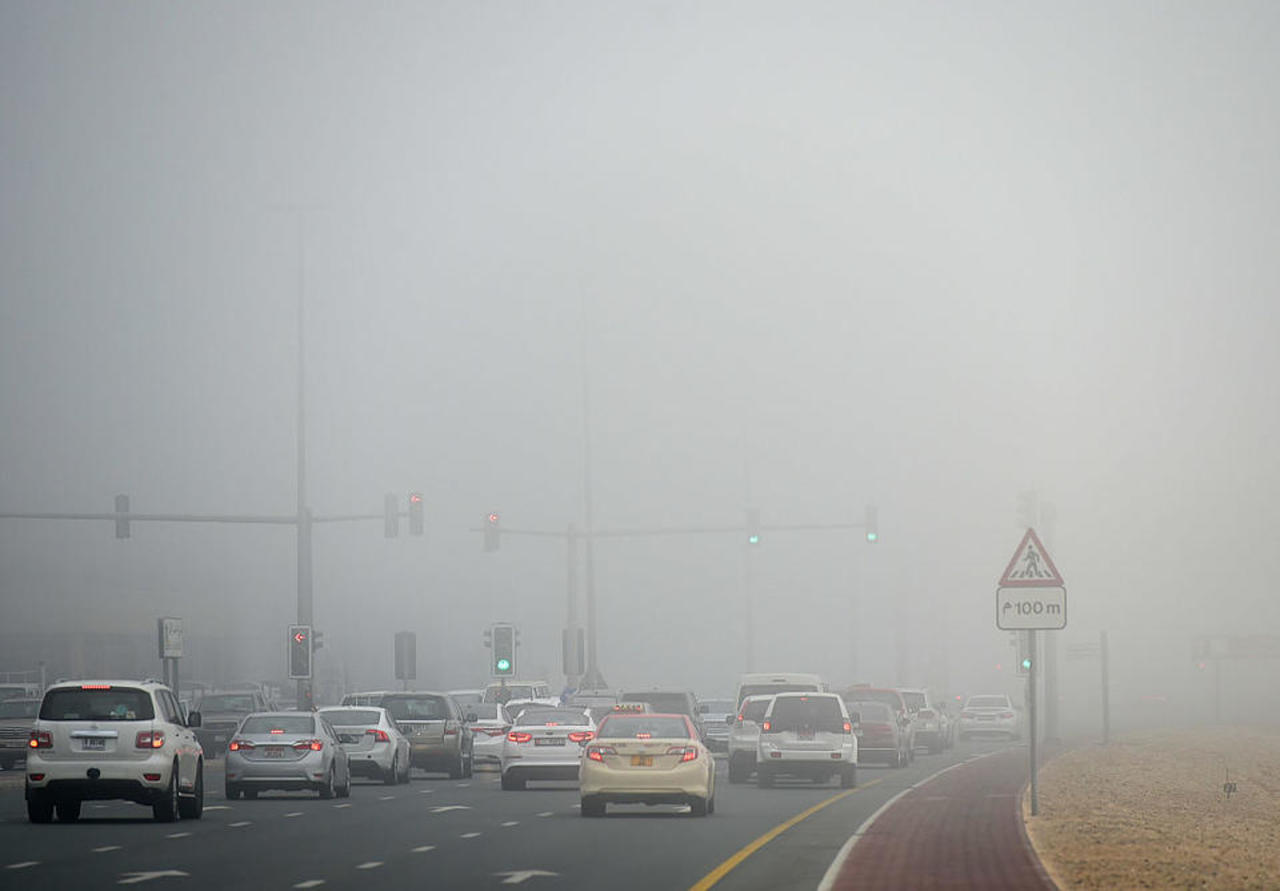car: (23, 675, 208, 823), (573, 710, 722, 820), (740, 690, 865, 793), (222, 712, 350, 800), (376, 691, 471, 778), (495, 708, 597, 787), (316, 706, 414, 782), (191, 685, 267, 747), (848, 697, 915, 766), (461, 695, 513, 772), (953, 693, 1020, 740), (729, 693, 762, 786), (897, 682, 942, 748), (694, 691, 734, 746)
